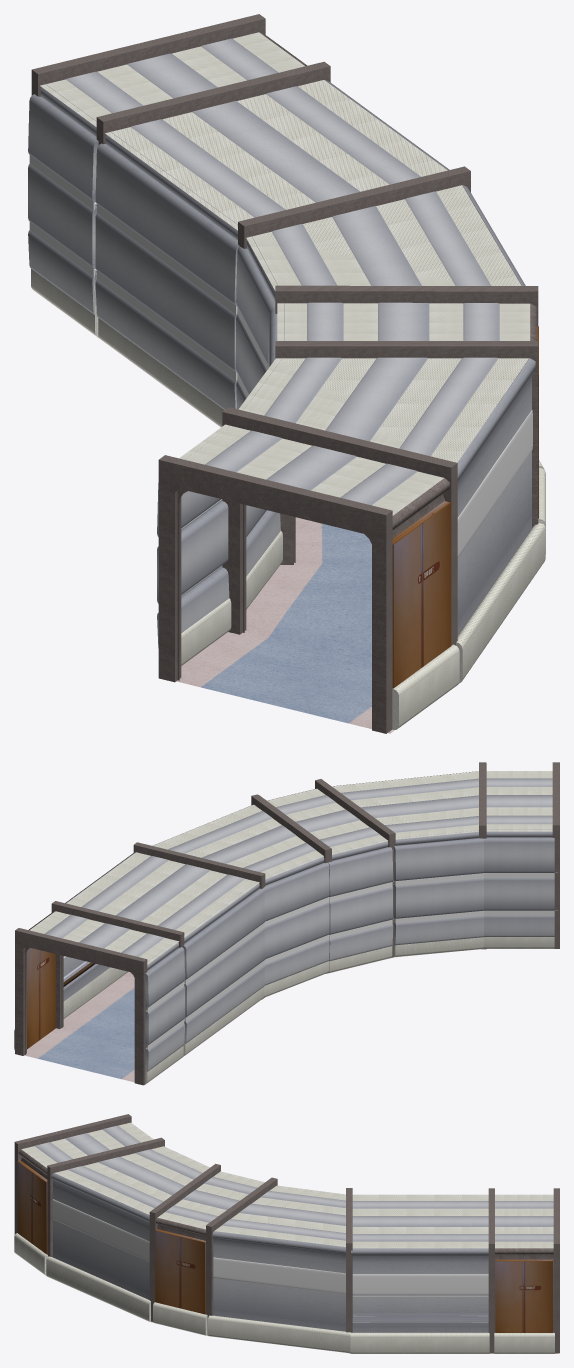
File: GalaxyCorridorResize.fbx
3 views of the same model, one above another, from view 1: azimuth 30°, elevation 25°; view 2: azimuth 150°, elevation 25°; view 3: azimuth 270°, elevation 25° (orthographic). The views are drawn at different scales.
Visible parts, largest first — view 1: Box275, Plane36, Plane54, Plane50, Plane52, Plane51, Plane39, ChamferBox71, Box273, ChamferBox70, Box255, ChamferBox57 (+50 smaller); view 2: Box195, Plane36, Plane50, Plane32, Plane39, ChamferBox94, Plane35, ChamferBox71, ChamferBox92, ChamferBox70, Box192, ChamferBox108 (+59 smaller); view 3: Plane42, Plane38, Plane52, Box192, Plane36, Box253, ChamferBox67, ChamferBox60, Plane39, Plane50, ChamferBox61, ChamferBox68 (+39 smaller).
Part boxes in pixels (bbox=[...]): Box275: bbox=[158, 455, 392, 733]; Plane36: bbox=[105, 80, 447, 230]; Plane54: bbox=[176, 631, 394, 733]; Plane50: bbox=[238, 358, 528, 462]; Plane52: bbox=[457, 358, 535, 635]; Plane51: bbox=[245, 563, 371, 661]; Plane39: bbox=[246, 185, 521, 290]; ChamferBox71: bbox=[95, 143, 239, 306]; Box273: bbox=[392, 501, 451, 688]; ChamferBox70: bbox=[95, 213, 237, 373]; Box255: bbox=[275, 341, 538, 564]; ChamferBox57: bbox=[192, 101, 360, 202]; Box195: bbox=[15, 928, 147, 1085]; Plane36: bbox=[66, 852, 259, 937]; Plane50: bbox=[332, 771, 478, 839]; Plane32: bbox=[24, 1027, 183, 1084]; Plane39: bbox=[153, 804, 323, 879]; ChamferBox94: bbox=[394, 838, 483, 881]; Plane35: bbox=[63, 971, 260, 1056]; ChamferBox71: bbox=[183, 888, 265, 979]; ChamferBox92: bbox=[394, 878, 483, 918]; ChamferBox70: bbox=[184, 927, 265, 1017]; Box192: bbox=[27, 948, 55, 1049]; ChamferBox108: bbox=[484, 837, 557, 872]; Plane42: bbox=[212, 1231, 345, 1331]; Plane38: bbox=[351, 1248, 488, 1332]; Plane52: bbox=[51, 1173, 149, 1299]; Box192: bbox=[495, 1259, 552, 1332]; Plane36: bbox=[352, 1194, 488, 1248]; Box253: bbox=[155, 1229, 205, 1314]; ChamferBox67: bbox=[208, 1315, 350, 1353]; ChamferBox60: bbox=[348, 1332, 492, 1353]; Plane39: bbox=[215, 1185, 345, 1246]; Plane50: bbox=[55, 1146, 209, 1214]; ChamferBox61: bbox=[352, 1274, 488, 1294]; ChamferBox68: bbox=[213, 1257, 345, 1293].
Bounding box in the file's own units: 659 × 256 × 1156.
